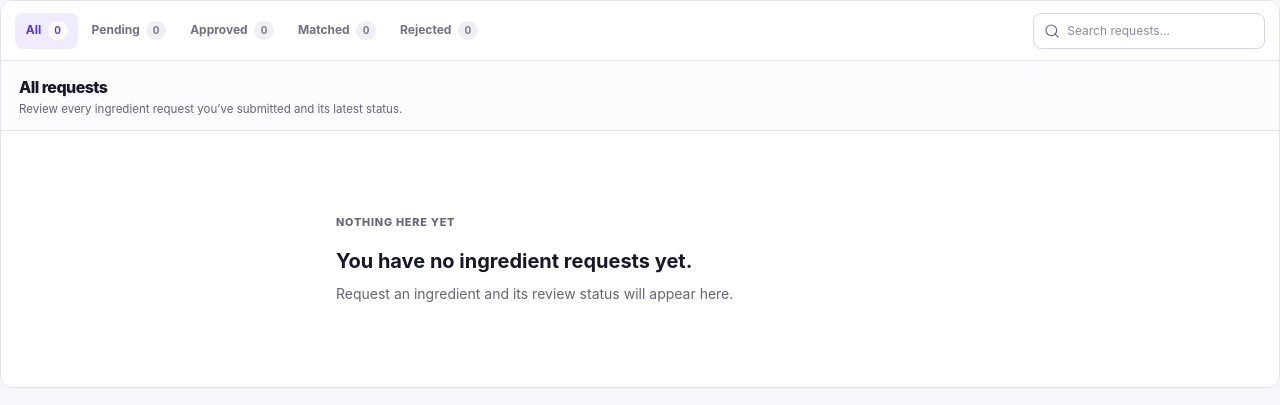
Test: MemberIngredientRequestHistory › uses the shared empty state for empty status filters and searches
The image size is (1280, 405).
Expected: the heading "You have no ingredient requests yet." is shown, [336,249,692,273]
Click the button "Rejected 0".
click(439, 30)  # box [390,12,488,48]
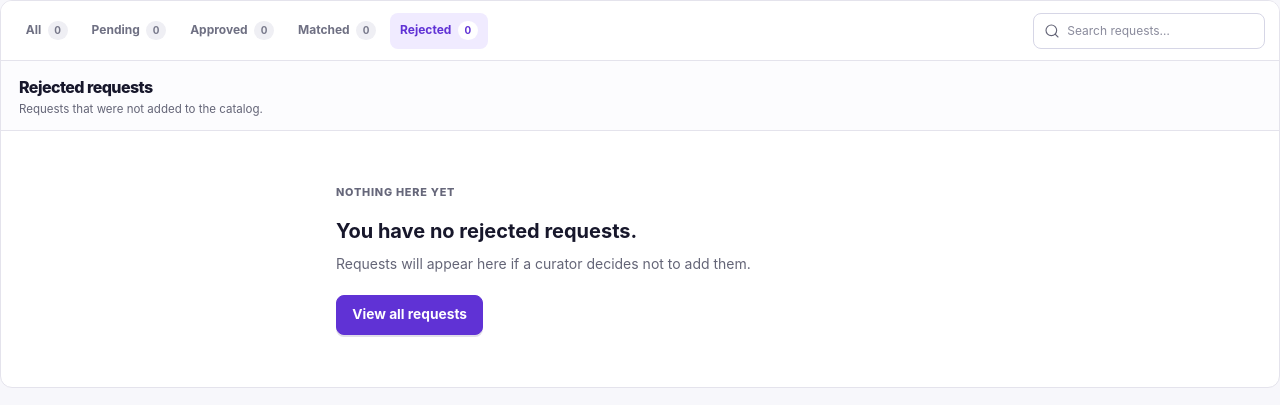
Now the element "You have no rejected requests." is shown, box [17,148,1263,372]
Now the text "Requests will appear here if a curator decides not to add them." is shown, box [336,255,751,272]
Click the button "View all requests".
click(410, 315)  # box [336,295,483,335]
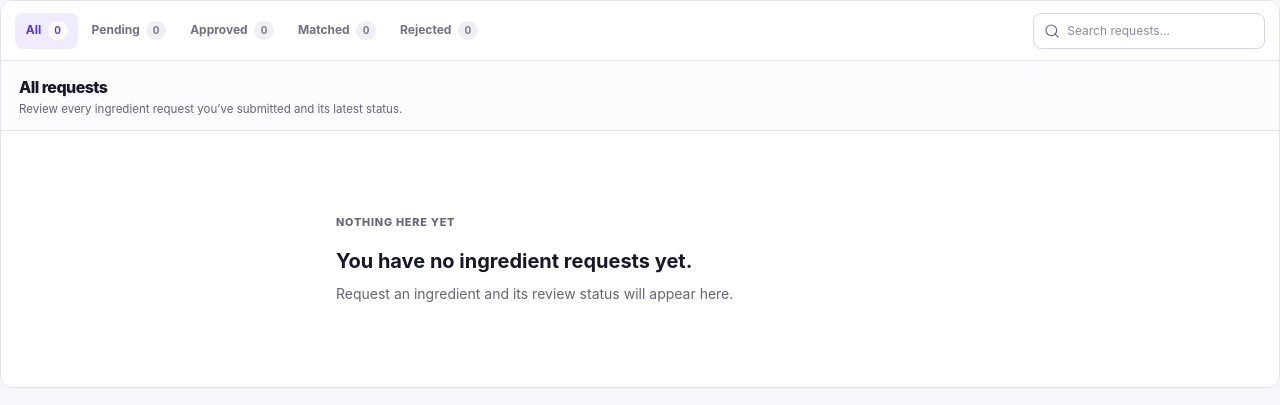
Now the heading "You have no ingredient requests yet." is shown, box [336,249,692,273]
Type "saffron" into the search field named "Search my ingredient requests".
click(1160, 30); type("saffron")  # box [1067,22,1253,39]
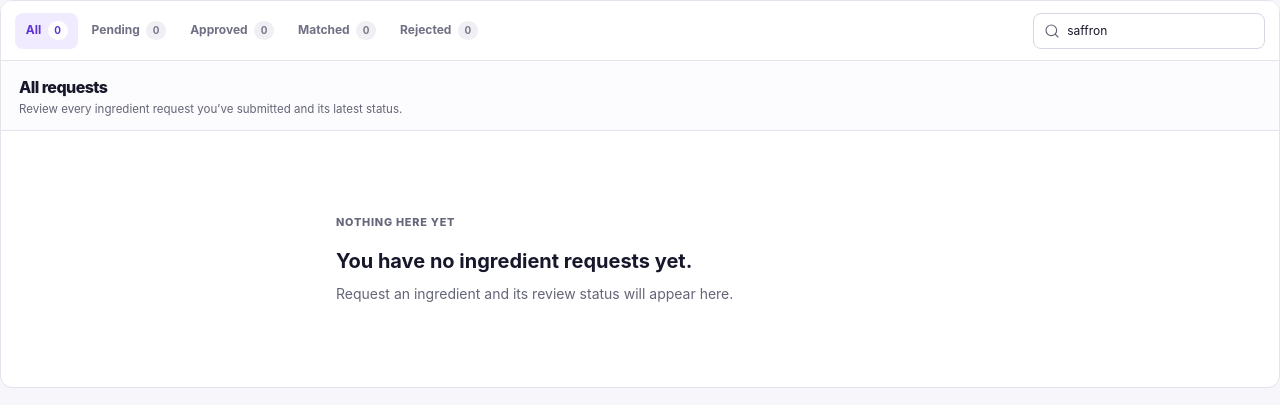
Submit the form named "Search my ingredient requests", box [1,1,1279,61]
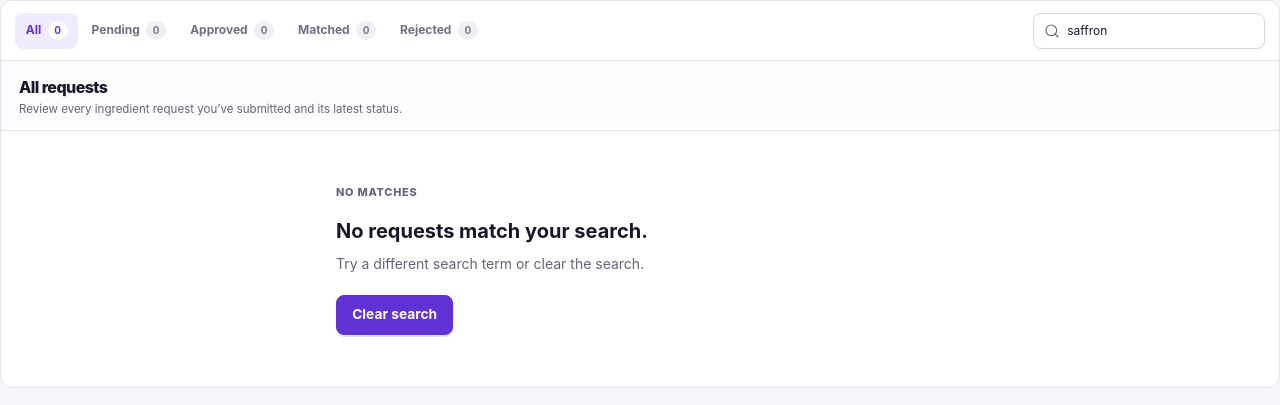
Now the element "No requests match your search." is shown, box [17,148,1263,372]
Now the text "No matches" is shown, box [336,185,417,199]
Now the text "Try a different search term or clear the search." is shown, box [336,255,644,272]
